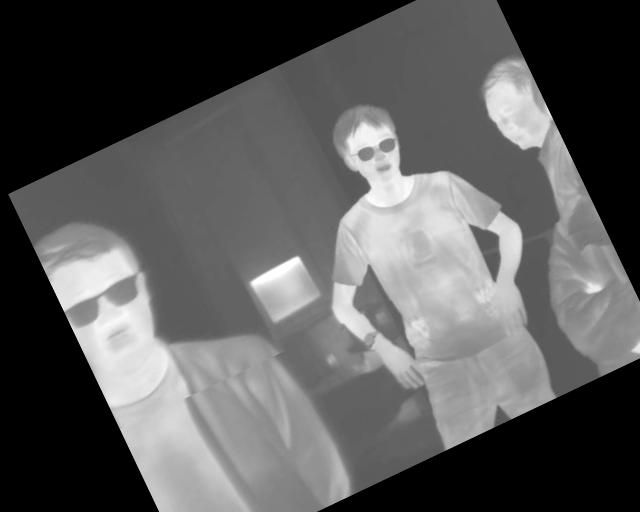face: (29, 200, 181, 385), (322, 93, 416, 197)
